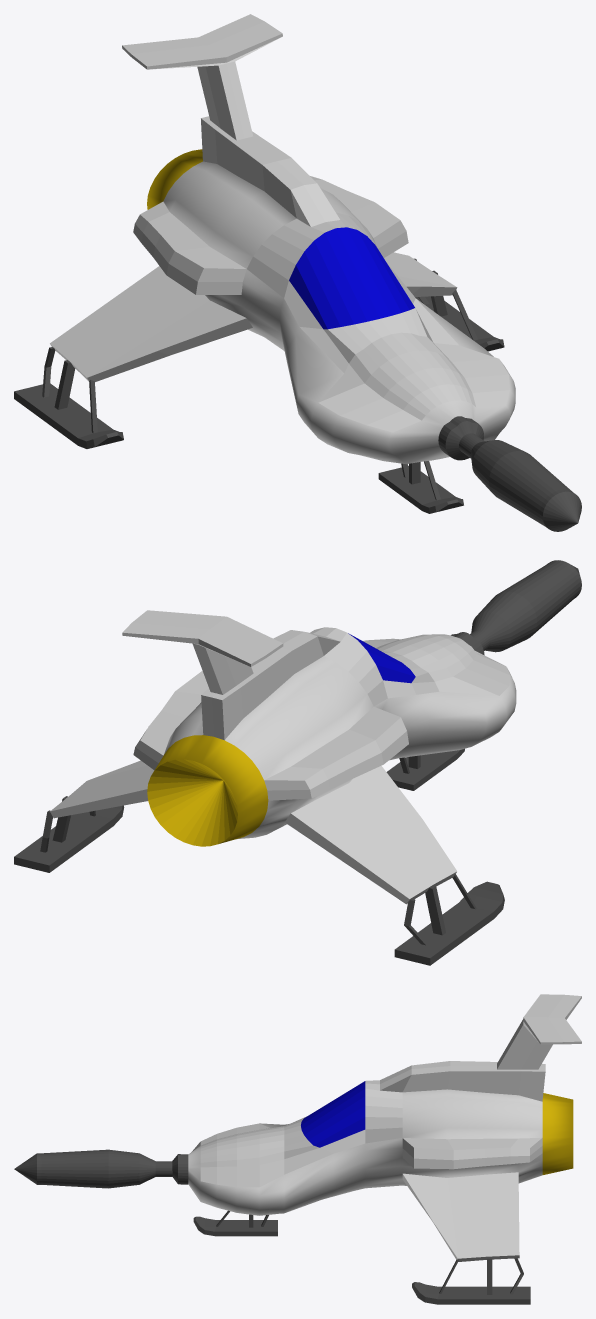
File: Interceptor.obj
3 renders of one model, top to bottom at view 1: azimuth 30°, elevation 25°; view 2: azimuth 150°, elevation 25°; view 3: azimuth 270°, elevation 25°, orthographic. The views are drawn at different scales.
Visible parts, largest first — view 1: Interceptor_Fuselage, NuclearProjectile_Fuselage.001; view 2: Interceptor_Fuselage, NuclearProjectile_Fuselage.001; view 3: Interceptor_Fuselage, NuclearProjectile_Fuselage.001.
Boxes of the visible parts, left/top/right/bottom form: Interceptor_Fuselage: left=14, top=14, right=515, bottom=513; NuclearProjectile_Fuselage.001: left=459, top=433, right=581, bottom=531; Interceptor_Fuselage: left=14, top=610, right=516, bottom=965; NuclearProjectile_Fuselage.001: left=470, top=560, right=581, bottom=652; Interceptor_Fuselage: left=172, top=994, right=581, bottom=1304; NuclearProjectile_Fuselage.001: left=14, top=1149, right=172, bottom=1188.
Bounding box in the file's own units: 1.66 × 1.13 × 2.71.
